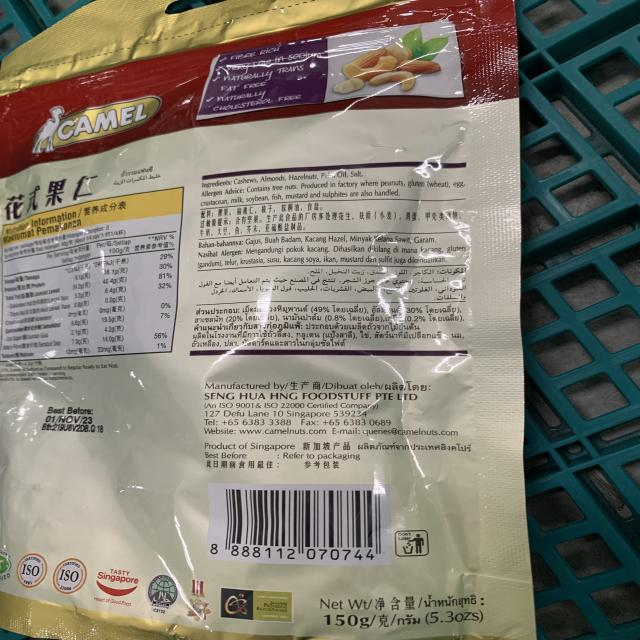object_name: (0, 0, 538, 640)
